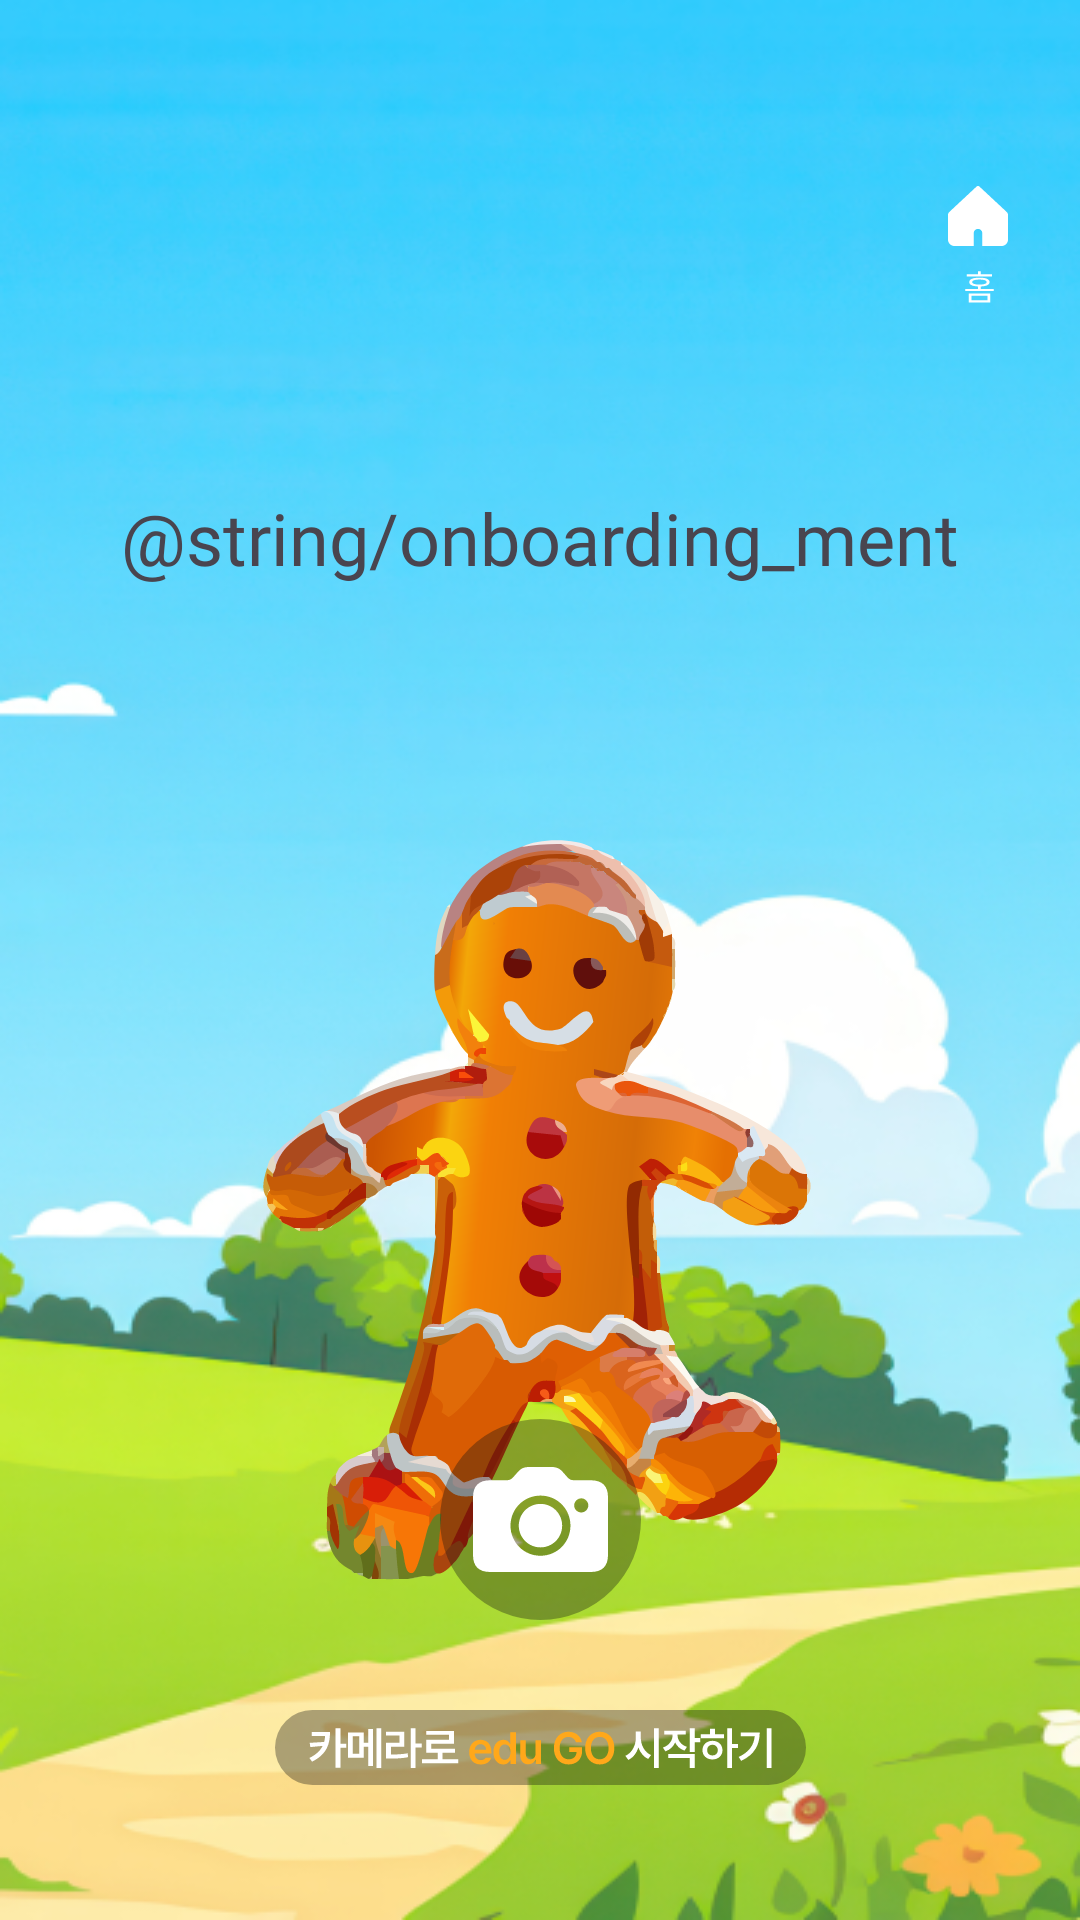

Screen size 1080px×1920px. Icon name, then its center in pixels as (x,y):
camera: (540,1519)
